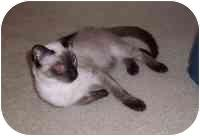siamese: (28, 26, 86, 91)
